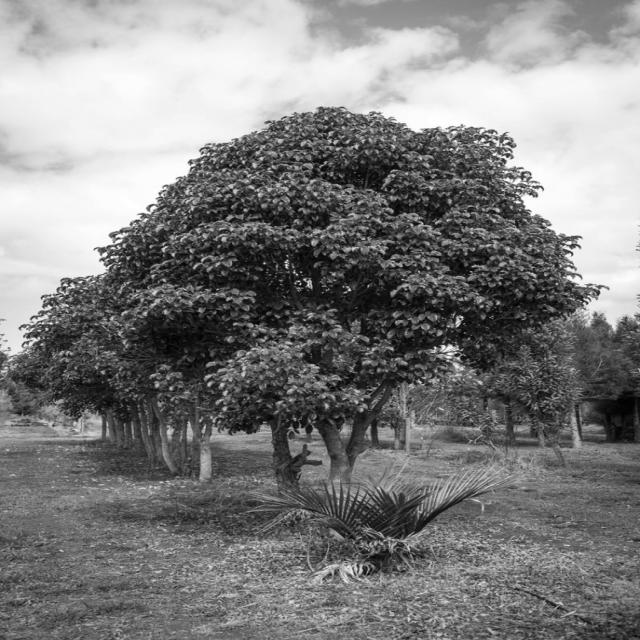Puriri: (23, 102, 575, 504)
